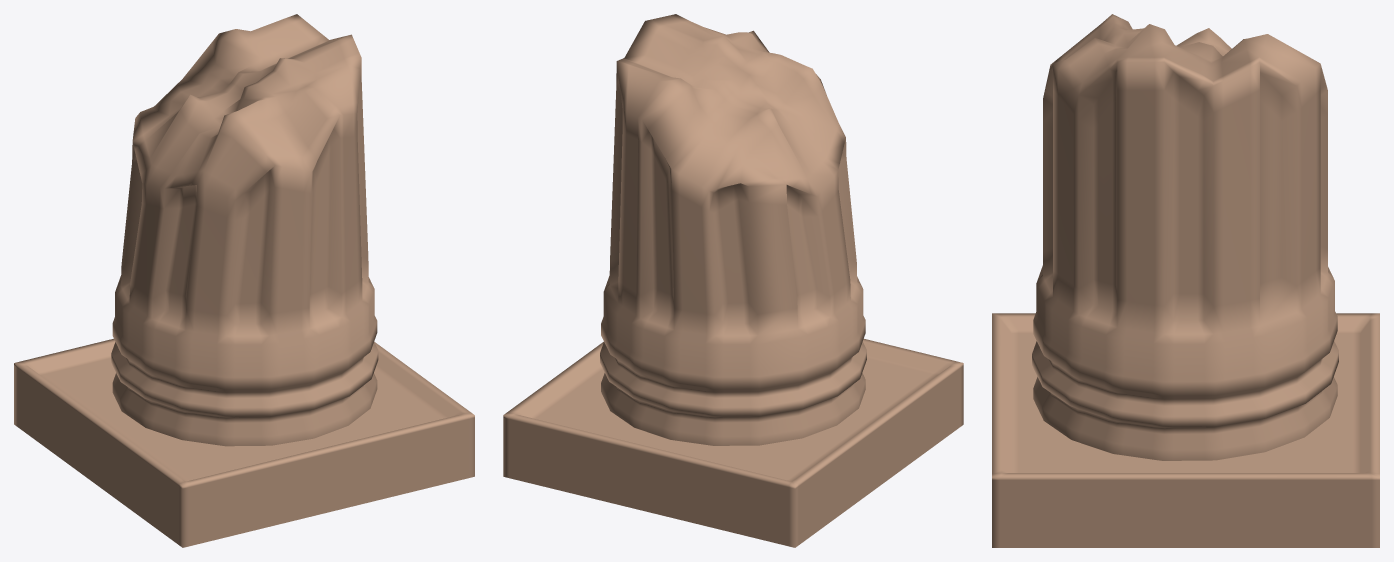
Rendered from Pillar_Ruin_2_LP.FBX.
3 renders of one model, left to right at view 1: azimuth 30°, elevation 25°; view 2: azimuth 150°, elevation 25°; view 3: azimuth 270°, elevation 25°, orthographic. The views are drawn at different scales.
Visible parts, largest first — view 1: Ruin_Pillar_1; view 2: Ruin_Pillar_1; view 3: Ruin_Pillar_1.
Boxes of the visible parts, <box> form: Ruin_Pillar_1: <box>14,14,474,547</box>; Ruin_Pillar_1: <box>503,14,963,547</box>; Ruin_Pillar_1: <box>992,14,1379,547</box>.
Size of the model in its own units: 102 by 134 by 102.
